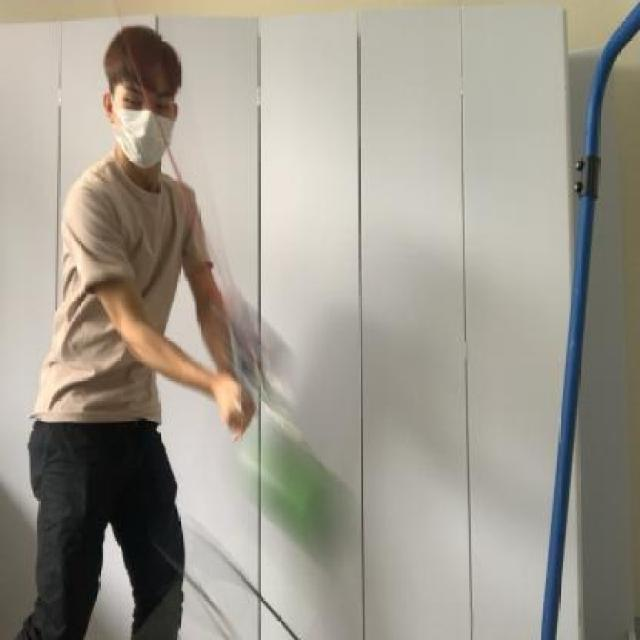baseball: (247, 422, 356, 553)
